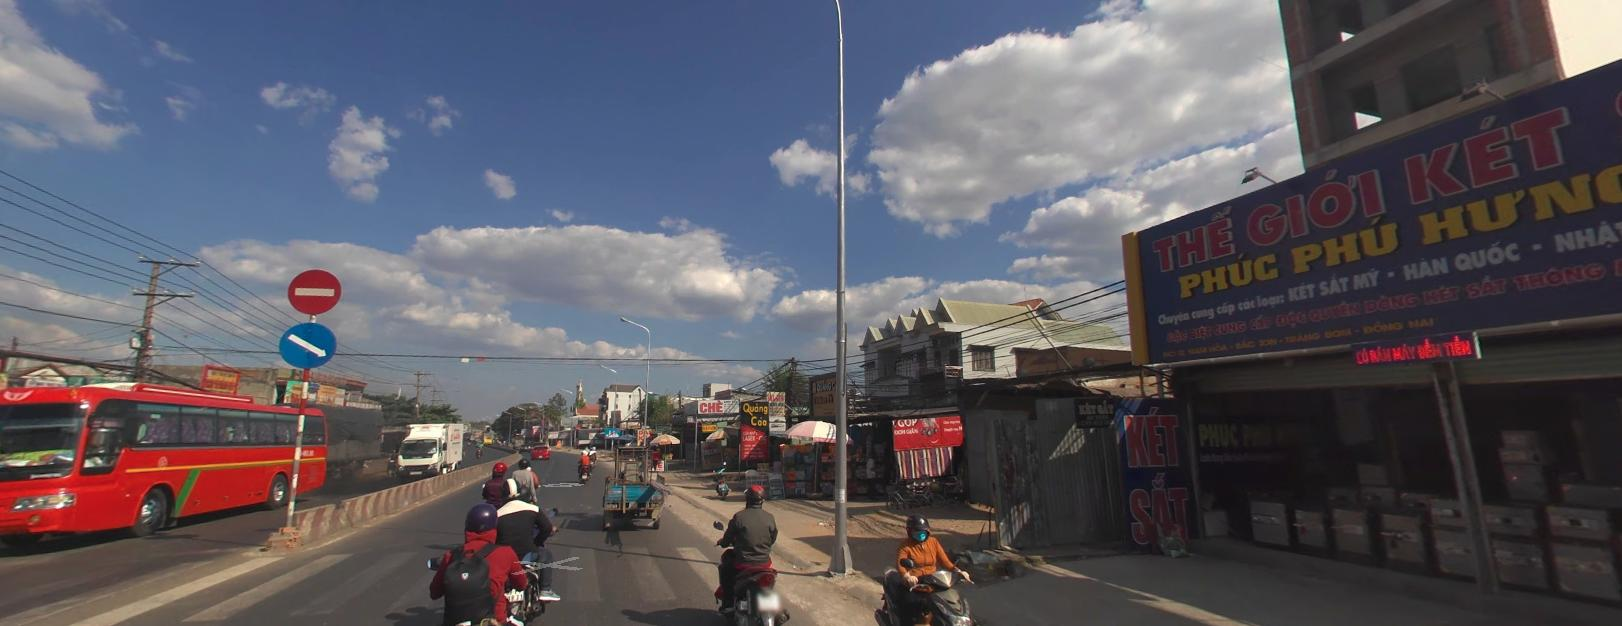Cam nguoc chieu: (286, 265, 342, 314)
Hieu lenh: (277, 319, 336, 367)
